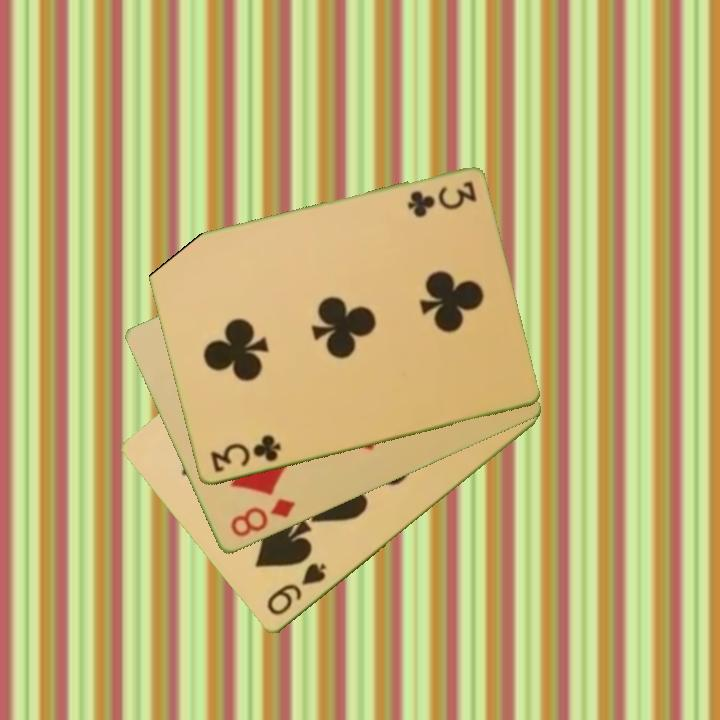3c: (206, 432, 284, 476), (403, 178, 479, 219)
8d: (226, 495, 298, 541)
9s: (263, 559, 329, 619)
